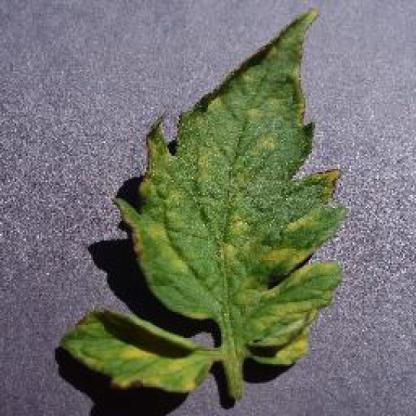Tomato_Leaf_Mold: (62, 9, 345, 392)
